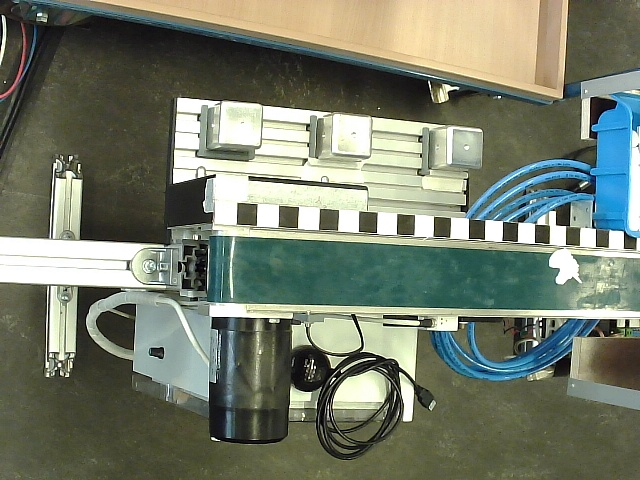unicorn: (548, 247, 583, 286)
